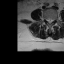CCS_normal: (49, 17, 50, 25)
LFS_normal: (52, 16, 55, 22)
LLS_normal: (50, 17, 52, 25)
RFS_normal: (44, 15, 47, 22)
RLS_normal: (47, 16, 49, 24)
